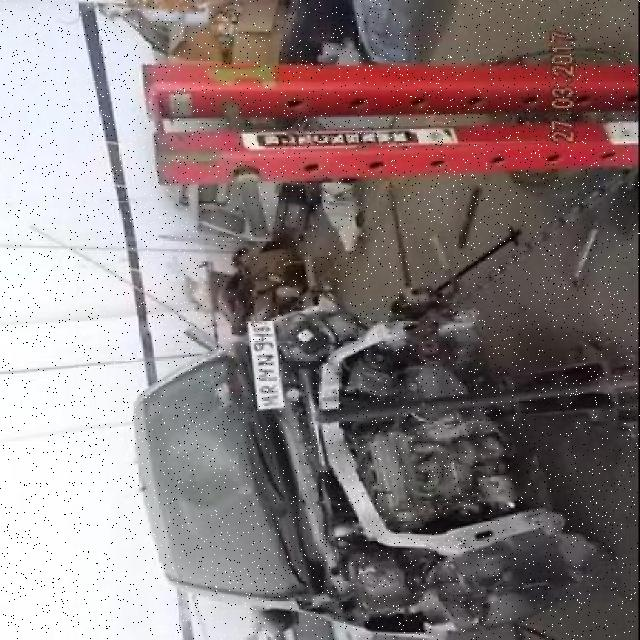damage: (281, 302, 580, 609)
